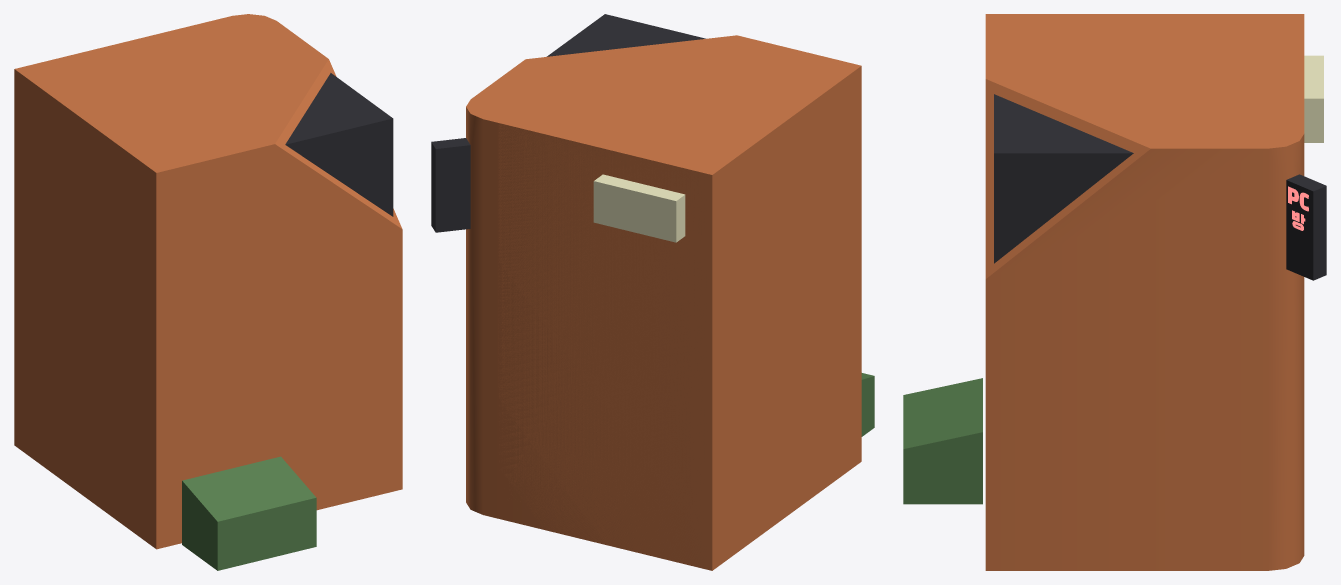
Rendered from cyber_house.gltf.
3 views of the same model, side by side, from view 1: azimuth 30°, elevation 25°; view 2: azimuth 150°, elevation 25°; view 3: azimuth 270°, elevation 25° (orthographic). The views are drawn at different scales.
Parts seen in each view (by area): view 1: Cube, Cube.001; view 2: Cube, Cube.001; view 3: Cube, Cube.001.
Boxes of the visible parts, x1,y1,x2,y2 form: Cube: (14, 14, 402, 549); Cube.001: (182, 456, 316, 570); Cube: (431, 14, 861, 570); Cube.001: (861, 373, 874, 436); Cube: (985, 14, 1326, 570); Cube.001: (903, 378, 982, 504).
Bounding box in the file's own units: 4.28 × 5.86 × 5.32.
Materials: 2 (1 with a texture image).
